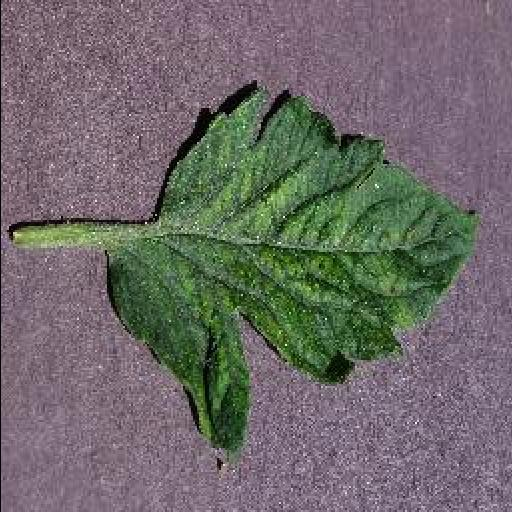Mosaic Virus: (106, 86, 480, 456)
